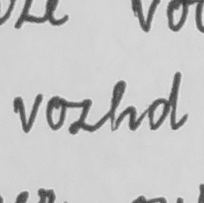d: (144, 70, 189, 133)
h: (108, 78, 139, 134)
o: (44, 94, 67, 132)
v: (9, 92, 43, 134)
z: (68, 95, 94, 137)
